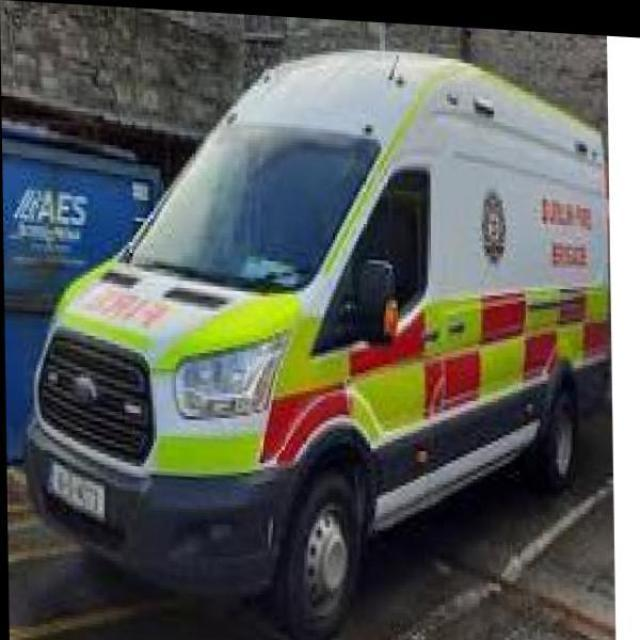emergency: (22, 44, 610, 636)
